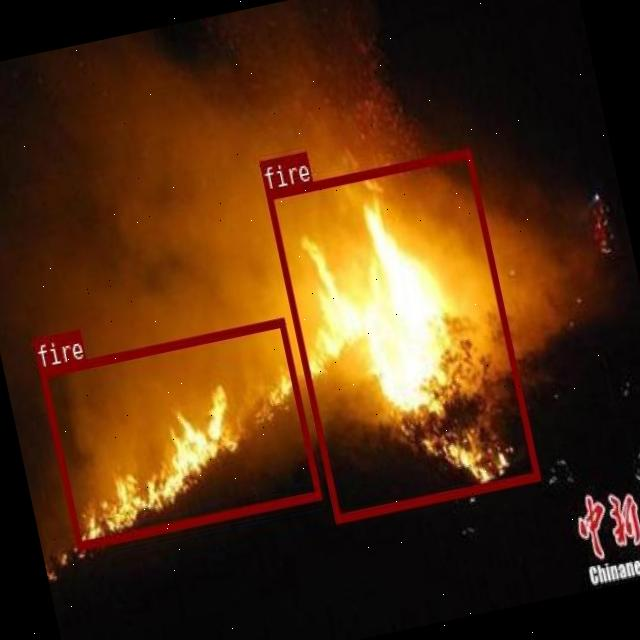fire: (264, 146, 540, 521), (37, 316, 320, 548)
